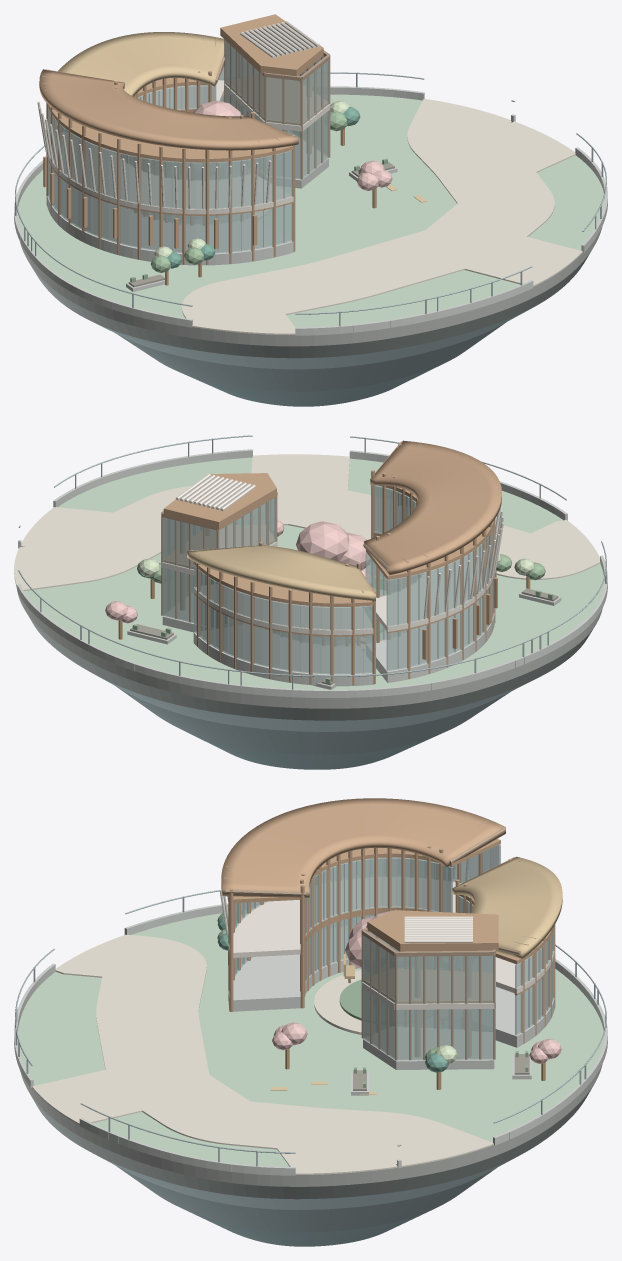
3 renders of one model, top to bottom at view 1: azimuth 30°, elevation 25°; view 2: azimuth 150°, elevation 25°; view 3: azimuth 270°, elevation 25°, orthographic. The views are drawn at different scales.
Visible parts, largest first — view 1: ROLE_terrain_Components__grass, ROLE_paving_Components__paveLight, ROLE_building_Components__careGlass, ROLE_building_Components__careRoof, ROLE_roof_Components__careRoof, ROLE_building_Components__careLinen, ROLE_building_Components__stone2, ROLE_roof_Components__warmwood, ROLE_terrain_Components__cliff2, ROLE_terrain_Components__stone2, ROLE_terrain_Components__cliff3, ROLE_rails_Components__stone2 (+7 smaller); view 2: ROLE_terrain_Components__grass, ROLE_building_Components__careGlass, ROLE_paving_Components__paveLight, ROLE_roof_Components__careRoof, ROLE_building_Components__careRoof, ROLE_building_Components__careLinen, ROLE_building_Components__stone2, ROLE_rails_Components__stone2, ROLE_terrain_Components__cliff2, ROLE_terrain_Components__cliff3, ROLE_terrain_Components__stone2, ROLE_roof_Components__warmwood (+9 smaller); view 3: ROLE_terrain_Components__grass, ROLE_paving_Components__paveLight, ROLE_building_Components__careGlass, ROLE_roof_Components__careRoof, ROLE_building_Components__careRoof, ROLE_building_Components__careLinen, ROLE_building_Components__stone2, ROLE_terrain_Components__stone2, ROLE_roof_Components__warmwood, ROLE_terrain_Components__cliff3, ROLE_terrain_Components__cliff2, ROLE_rails_Components__stone2 (+8 smaller).
Boxes of the visible parts, bbox=[...] form: ROLE_terrain_Components__grass: bbox=[17, 94, 604, 327]; ROLE_paving_Components__paveLight: bbox=[181, 99, 582, 334]; ROLE_building_Components__careGlass: bbox=[47, 40, 329, 253]; ROLE_building_Components__careRoof: bbox=[43, 63, 328, 264]; ROLE_roof_Components__careRoof: bbox=[39, 14, 323, 150]; ROLE_building_Components__careLinen: bbox=[37, 21, 330, 214]; ROLE_building_Components__stone2: bbox=[47, 129, 328, 265]; ROLE_roof_Components__warmwood: bbox=[58, 32, 224, 96]; ROLE_terrain_Components__cliff2: bbox=[117, 322, 505, 391]; ROLE_terrain_Components__stone2: bbox=[19, 227, 602, 346]; ROLE_terrain_Components__cliff3: bbox=[31, 252, 590, 358]; ROLE_rails_Components__stone2: bbox=[14, 86, 607, 335]; ROLE_terrain_Components__grass: bbox=[24, 457, 604, 689]; ROLE_building_Components__careGlass: bbox=[162, 485, 494, 674]; ROLE_paving_Components__paveLight: bbox=[14, 454, 600, 650]; ROLE_roof_Components__careRoof: bbox=[163, 440, 501, 575]; ROLE_building_Components__careRoof: bbox=[163, 443, 497, 685]; ROLE_building_Components__careLinen: bbox=[161, 473, 503, 635]; ROLE_building_Components__stone2: bbox=[162, 577, 494, 686]; ROLE_rails_Components__stone2: bbox=[17, 449, 607, 697]; ROLE_terrain_Components__cliff2: bbox=[116, 686, 509, 754]; ROLE_terrain_Components__cliff3: bbox=[26, 612, 594, 720]; ROLE_terrain_Components__stone2: bbox=[16, 585, 602, 708]; ROLE_roof_Components__warmwood: bbox=[187, 545, 375, 600]; ROLE_terrain_Components__grass: bbox=[17, 910, 604, 1166]; ROLE_paving_Components__paveLight: bbox=[32, 934, 493, 1174]; ROLE_building_Components__careGlass: bbox=[229, 844, 553, 1060]; ROLE_roof_Components__careRoof: bbox=[221, 798, 505, 951]; ROLE_building_Components__careRoof: bbox=[228, 839, 555, 1043]; ROLE_building_Components__careLinen: bbox=[219, 859, 554, 1009]; ROLE_building_Components__stone2: bbox=[228, 925, 554, 1069]; ROLE_terrain_Components__stone2: bbox=[20, 1064, 602, 1186]; ROLE_roof_Components__warmwood: bbox=[452, 856, 562, 958]; ROLE_terrain_Components__cliff3: bbox=[30, 1085, 593, 1199]; ROLE_terrain_Components__cliff2: bbox=[115, 1165, 496, 1232]; ROLE_rails_Components__stone2: bbox=[14, 902, 607, 1175].
Size of the model in its own units: 29.84 by 15.15 by 27.84.
